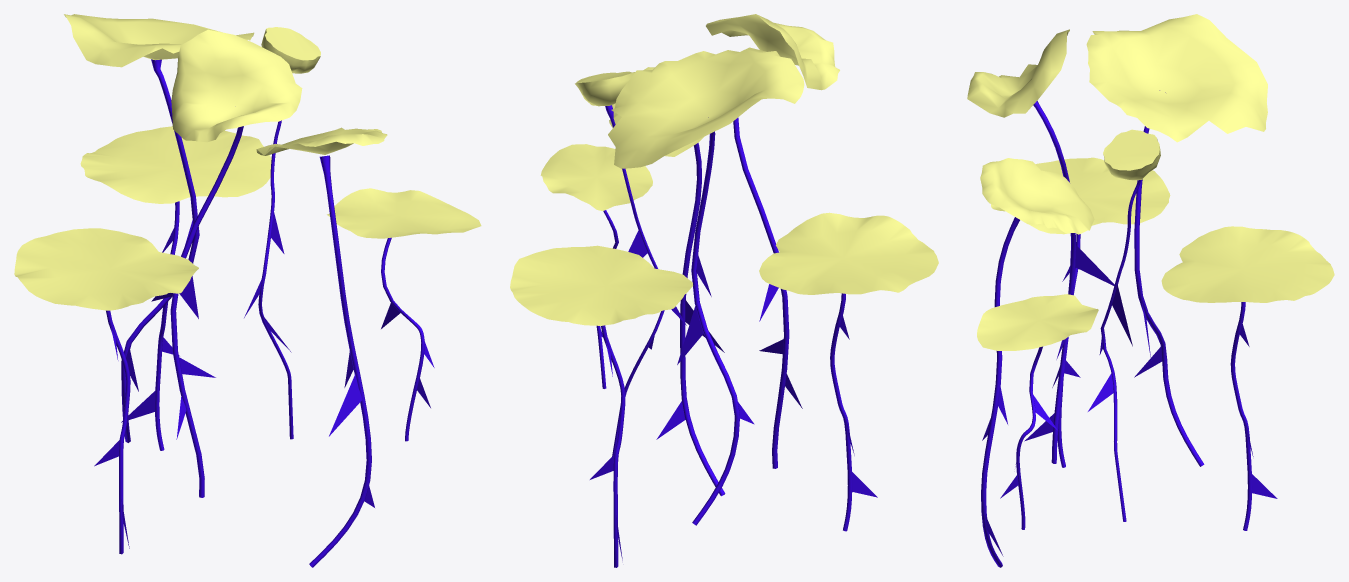
Rendered from Lotus_A.FBX.
3 views of the same model, side by side, from view 1: azimuth 30°, elevation 25°; view 2: azimuth 150°, elevation 25°; view 3: azimuth 270°, elevation 25° (orthographic). The views are drawn at different scales.
Visible parts, largest first — view 1: Geometry_Lotus_B_LOD00; view 2: Geometry_Lotus_B_LOD00; view 3: Geometry_Lotus_B_LOD00.
Part boxes in pixels (box(x1,y1,x2,y2)): Geometry_Lotus_B_LOD00: box(14, 14, 481, 567); Geometry_Lotus_B_LOD00: box(510, 14, 938, 567); Geometry_Lotus_B_LOD00: box(967, 14, 1334, 567).
Size of what is drawn, in the model's own units: 107 by 131 by 86.52.
